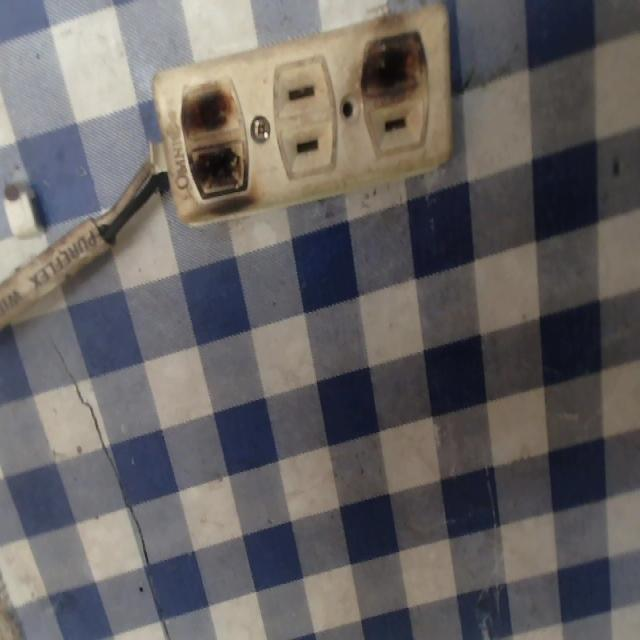-: (178, 74, 255, 218), (355, 24, 433, 103)
